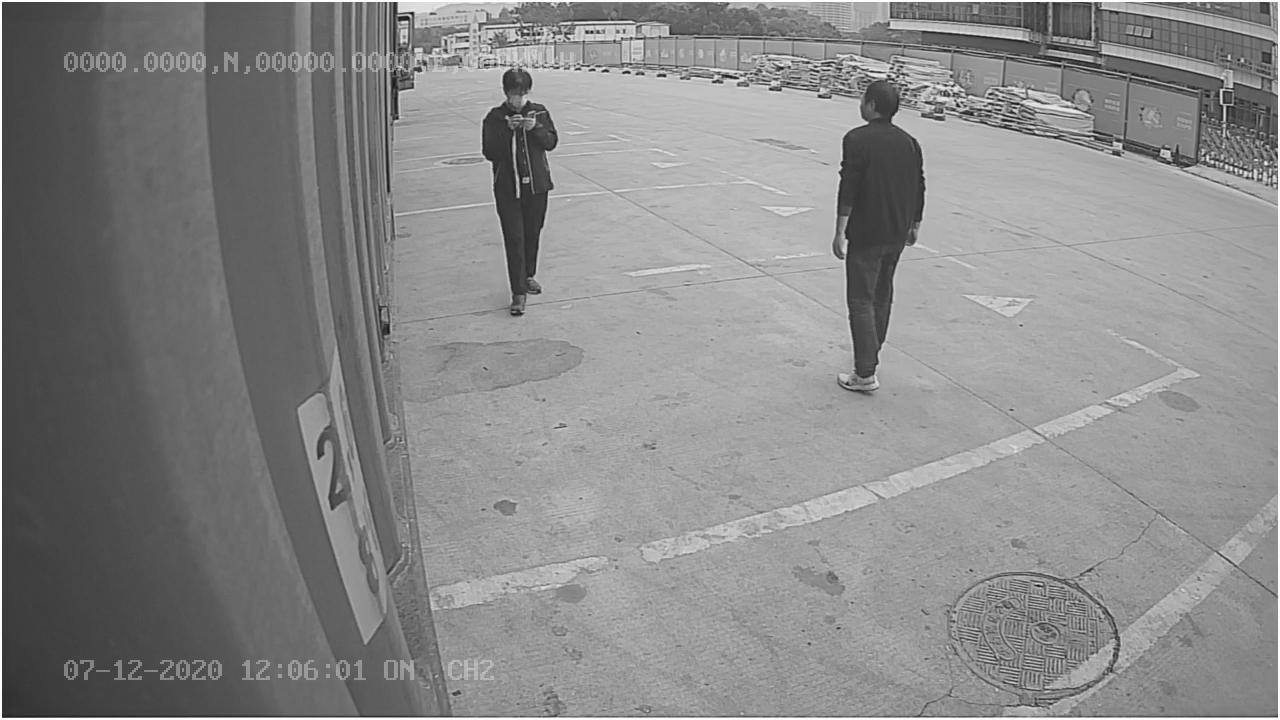person: (831, 78, 929, 392), (477, 69, 559, 315)
